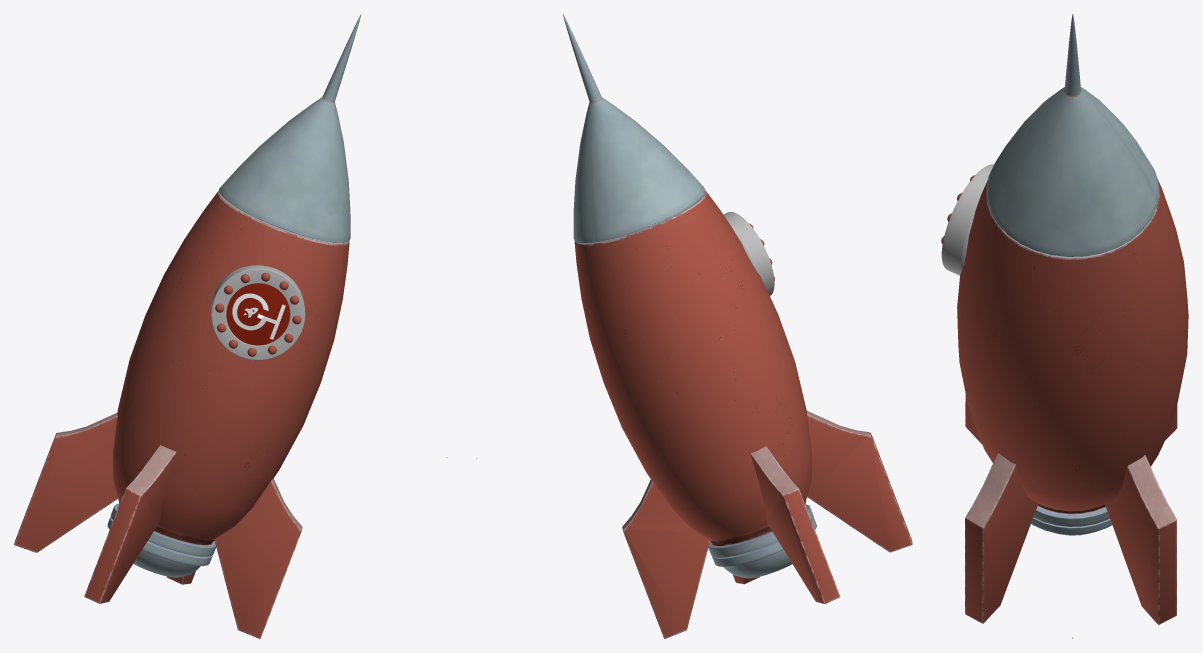
File: rocketmodelfix-transformed.glb
3 renders of one model, left to right at view 1: azimuth 30°, elevation 25°; view 2: azimuth 150°, elevation 25°; view 3: azimuth 270°, elevation 25°, orthographic. The views are drawn at different scales.
Visible parts, largest first — view 1: Circle_0, Cube, Circle, Circle.001_1.002; view 2: Circle_0, Cube, Circle; view 3: Circle_0, Cube, Circle.
Boxes of the visible parts, <box> form: Circle_0: <box>107,14,361,577</box>; Cube: <box>14,272,302,638</box>; Circle: <box>211,265,305,360</box>; Circle.001_1.002: <box>226,283,289,345</box>; Circle_0: <box>562,14,816,578</box>; Cube: <box>622,223,912,638</box>; Circle: <box>723,212,774,295</box>; Circle_0: <box>957,14,1188,535</box>; Cube: <box>941,175,1177,624</box>; Circle: <box>941,164,993,275</box>.
Size of the model in its own units: 1.32 by 1.78 by 0.5756.
5 materials, 3 textured.
